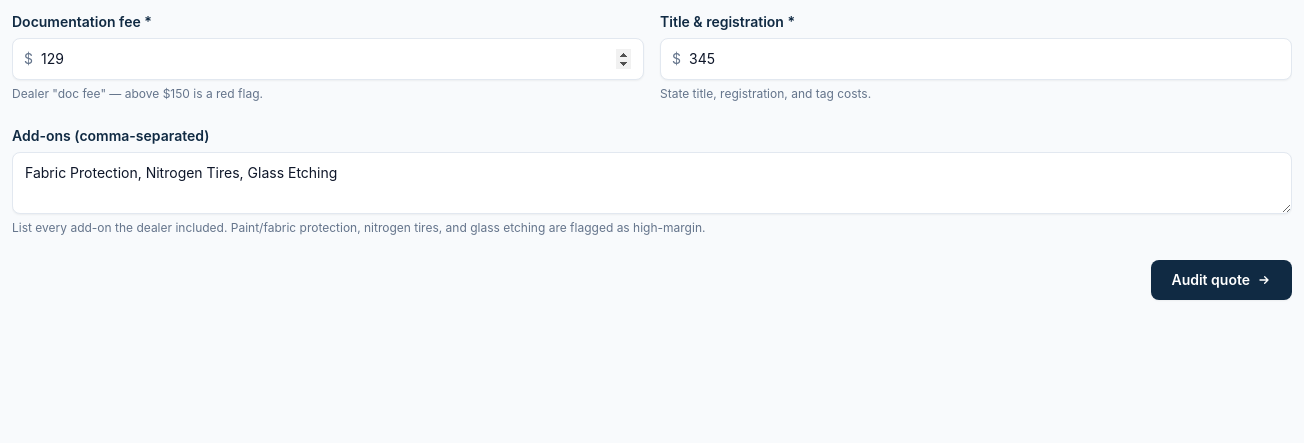
Test: FeeAuditor › flags doc fee above $150
This screenshot has width=1304, height=443.
Type "250" into the number field labelled "Documentation fee *". click: (328, 59)
box: [12,38,644,80]
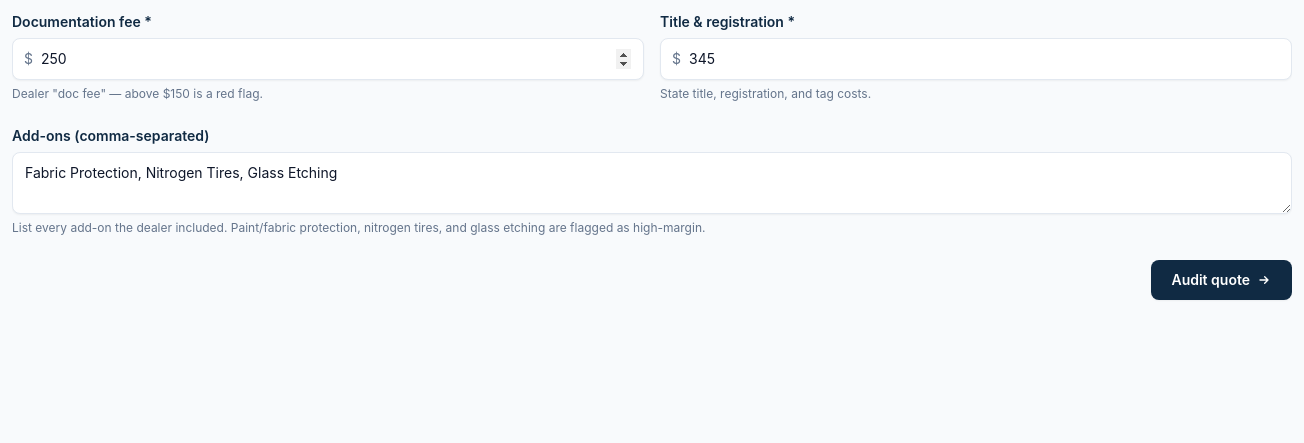
Clear the text box labelled "Add-ons (comma-separated)". click: (652, 183)
box: [12,152,1292,214]
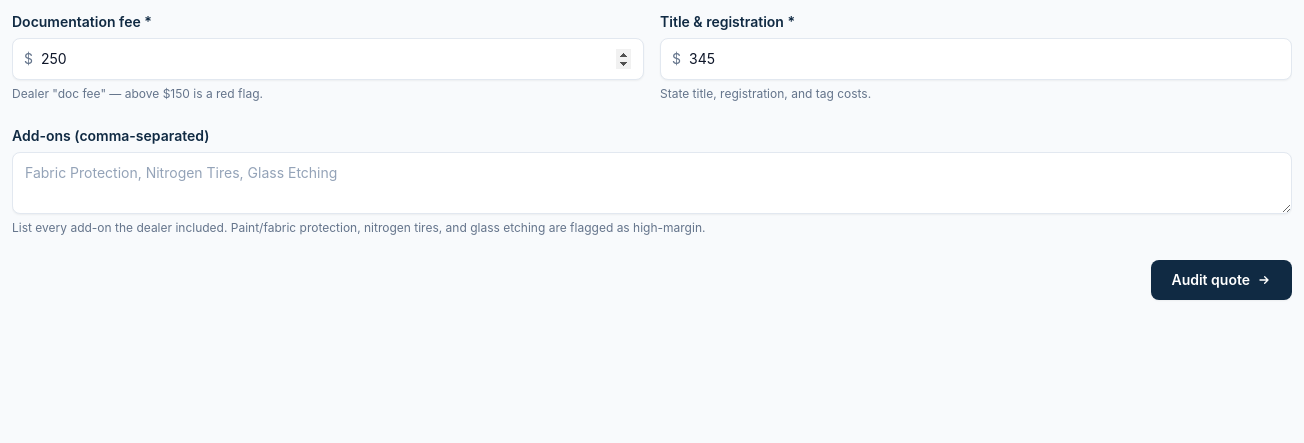
Click the button "Audit quote". click: (1222, 280)
box: [1152,260,1292,300]
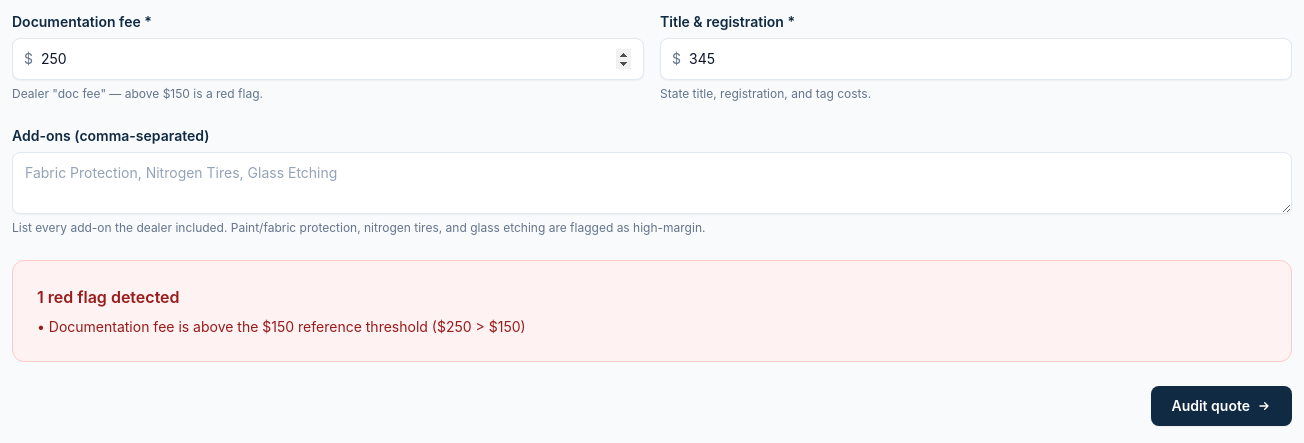
Expected: the text "1 red flag detected" is shown, [37,287,180,307]
Expected: the number of list items "above the $150 reference threshold" is 1, [37,318,526,335]
